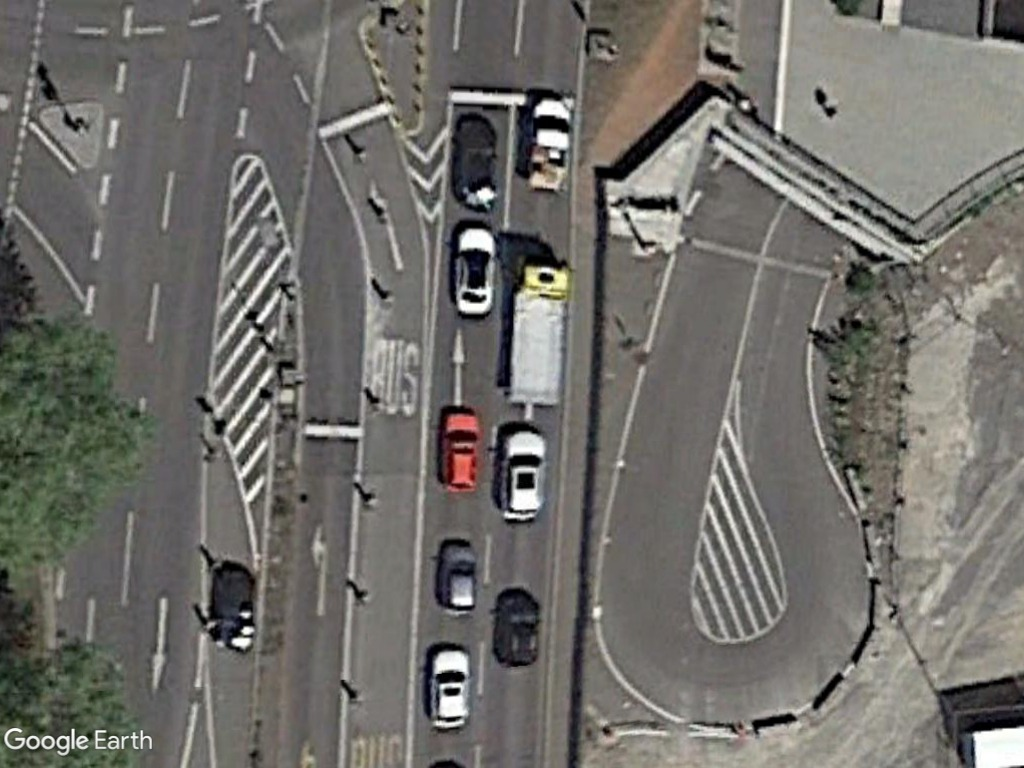car: (491, 425, 548, 528), (446, 219, 499, 324), (422, 643, 474, 735), (437, 407, 484, 497), (434, 540, 476, 618)
other: (501, 259, 574, 412)
